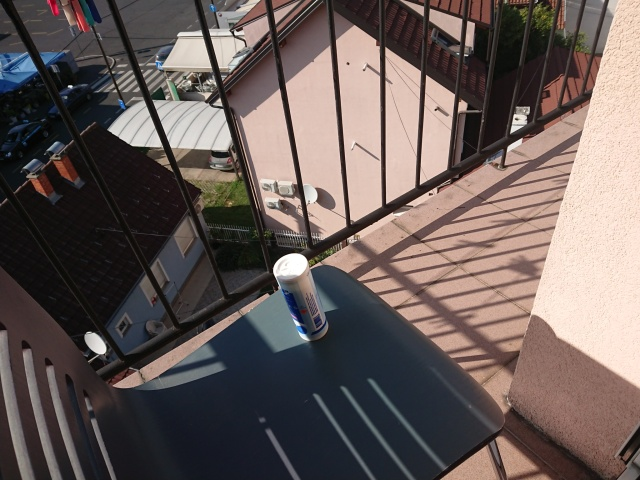Solana Pag Fine Sea Salt 250g: (270, 250, 332, 343)
